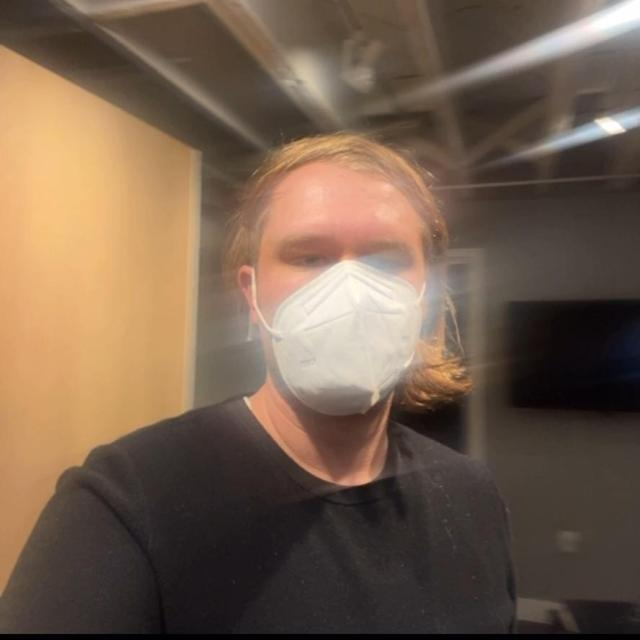no-helmet: (222, 114, 471, 422)
